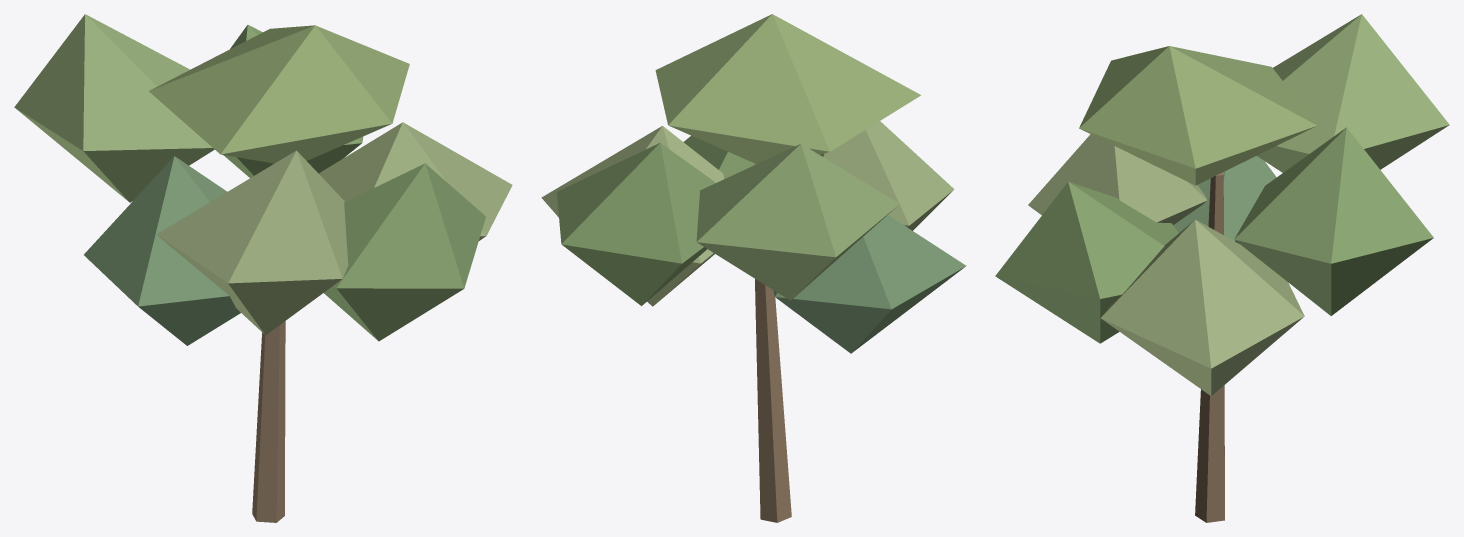
3 renders of one model, left to right at view 1: azimuth 30°, elevation 25°; view 2: azimuth 150°, elevation 25°; view 3: azimuth 270°, elevation 25°, orthographic. The views are drawn at different scales.
Bounding box in the file's own units: 7.1 × 8.33 × 7.12.
